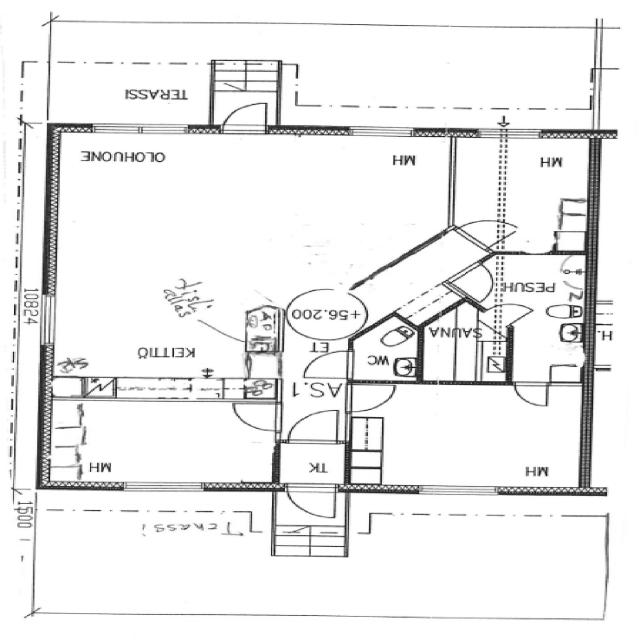door: (233, 404, 344, 441), (284, 482, 340, 520), (285, 408, 344, 444), (343, 382, 403, 414), (302, 349, 358, 382), (221, 99, 272, 133), (229, 401, 283, 433), (512, 380, 553, 409), (487, 125, 543, 142), (472, 125, 508, 142)
window: (31, 289, 64, 354), (113, 479, 210, 497), (86, 121, 195, 136), (412, 484, 503, 498), (342, 124, 419, 139)
zone: (43, 187, 288, 394), (344, 515, 617, 620), (345, 381, 590, 493), (36, 398, 279, 489), (452, 134, 596, 251), (484, 252, 594, 384), (420, 302, 508, 384), (351, 332, 422, 383)
